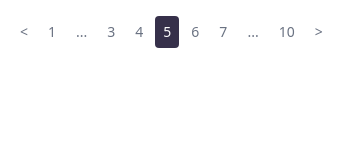
Pagination.vue › shows correct ellipsis button text on hover
Hover over the 1st button "...": coordinates (82, 32) top-left (68, 16), bottom-right (95, 48)
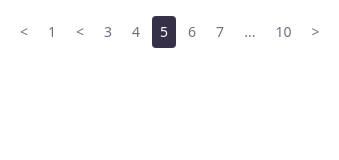
Check: the 2nd button "<" is shown
Move the pointer off the 2nd button "<", box top-left (68, 16), bottom-right (92, 48)
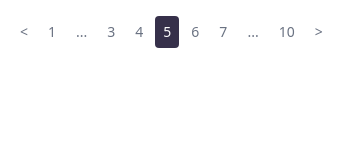
Check: the 1st button "..." is shown, box top-left (68, 16), bottom-right (95, 48)
